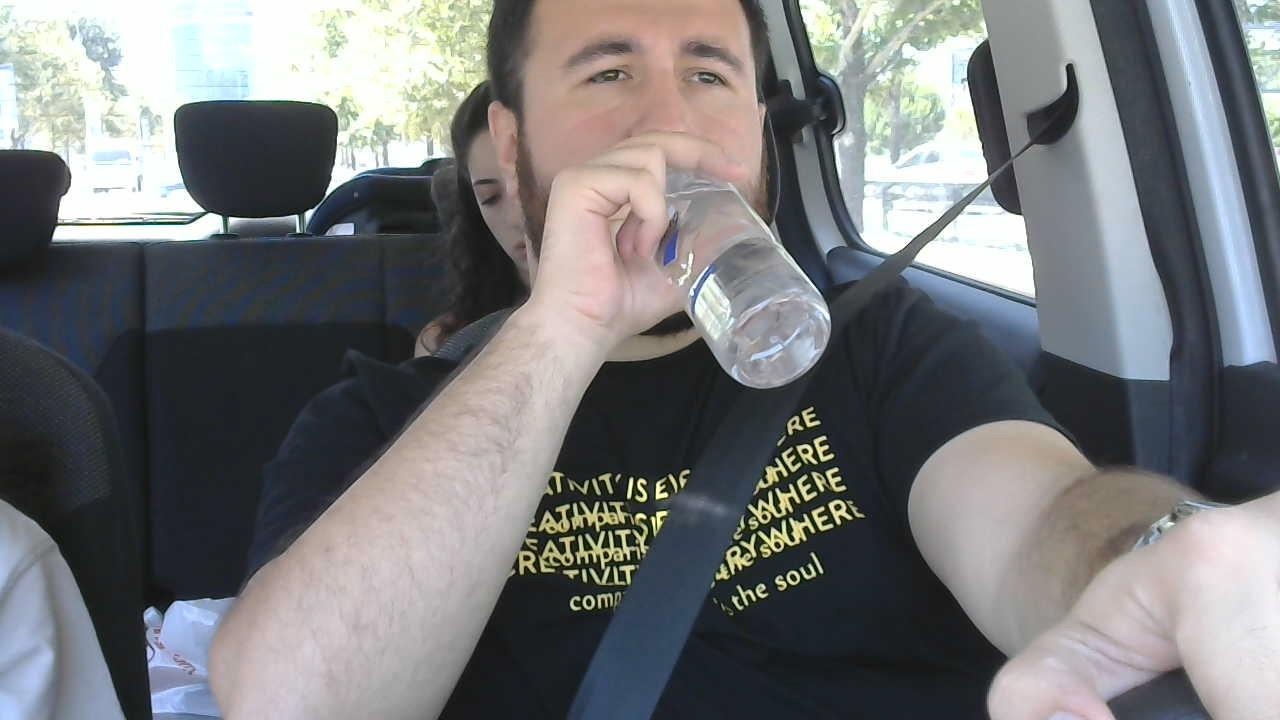Drinking: (488, 0, 833, 391)
